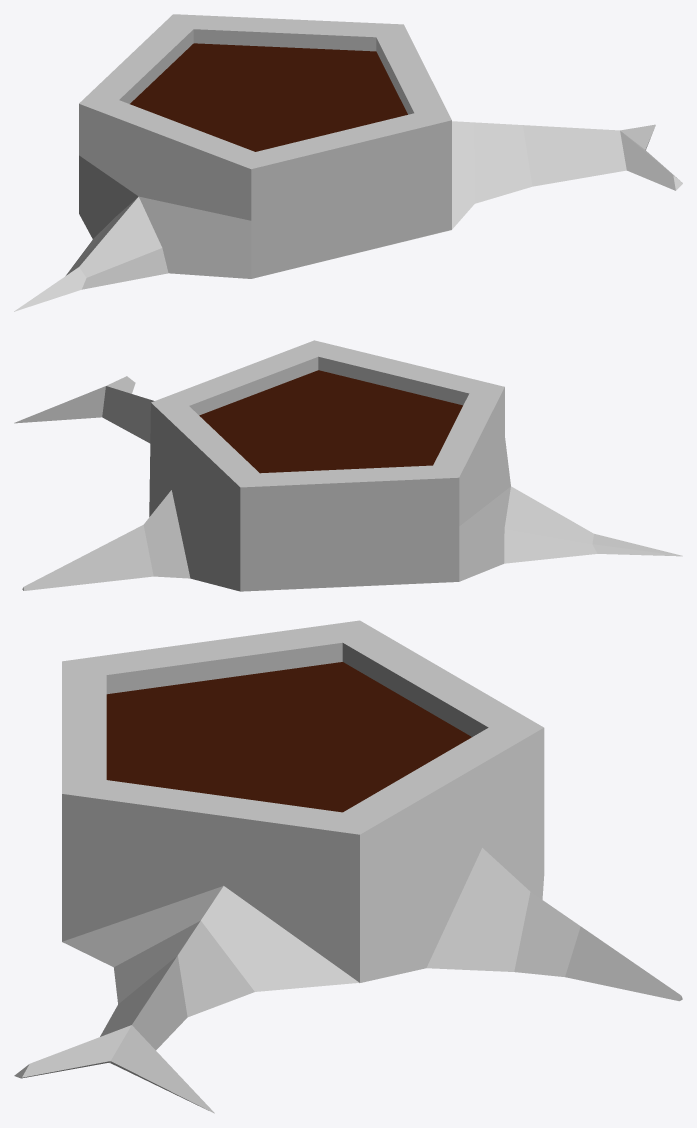
The model's file is Tronco.obj.
The picture shows the model from 3 angles, top to bottom: view 1: azimuth 30°, elevation 25°; view 2: azimuth 150°, elevation 25°; view 3: azimuth 270°, elevation 25°; orthographic projection. The views are drawn at different scales.
Visible parts, largest first — view 1: Cylinder; view 2: Cylinder; view 3: Cylinder.
Part boxes in pixels (box(x1,y1,x2,y2)): Cylinder: box(14, 14, 682, 311); Cylinder: box(14, 340, 682, 591); Cylinder: box(14, 620, 682, 1113).
Size of the model in its own units: 1.65 by 0.2687 by 1.05.
